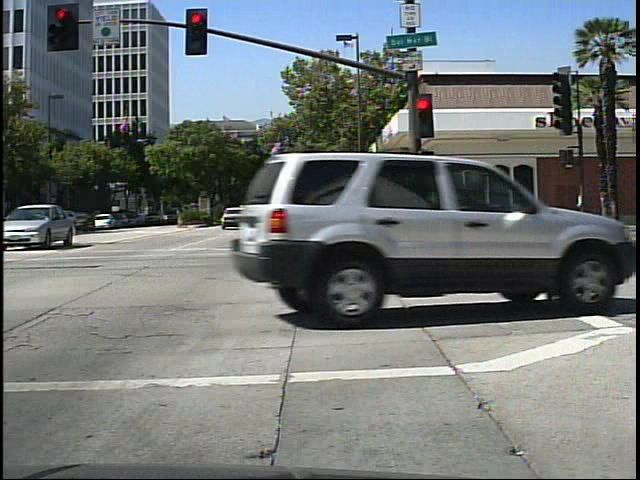person: (270, 205, 282, 223)
